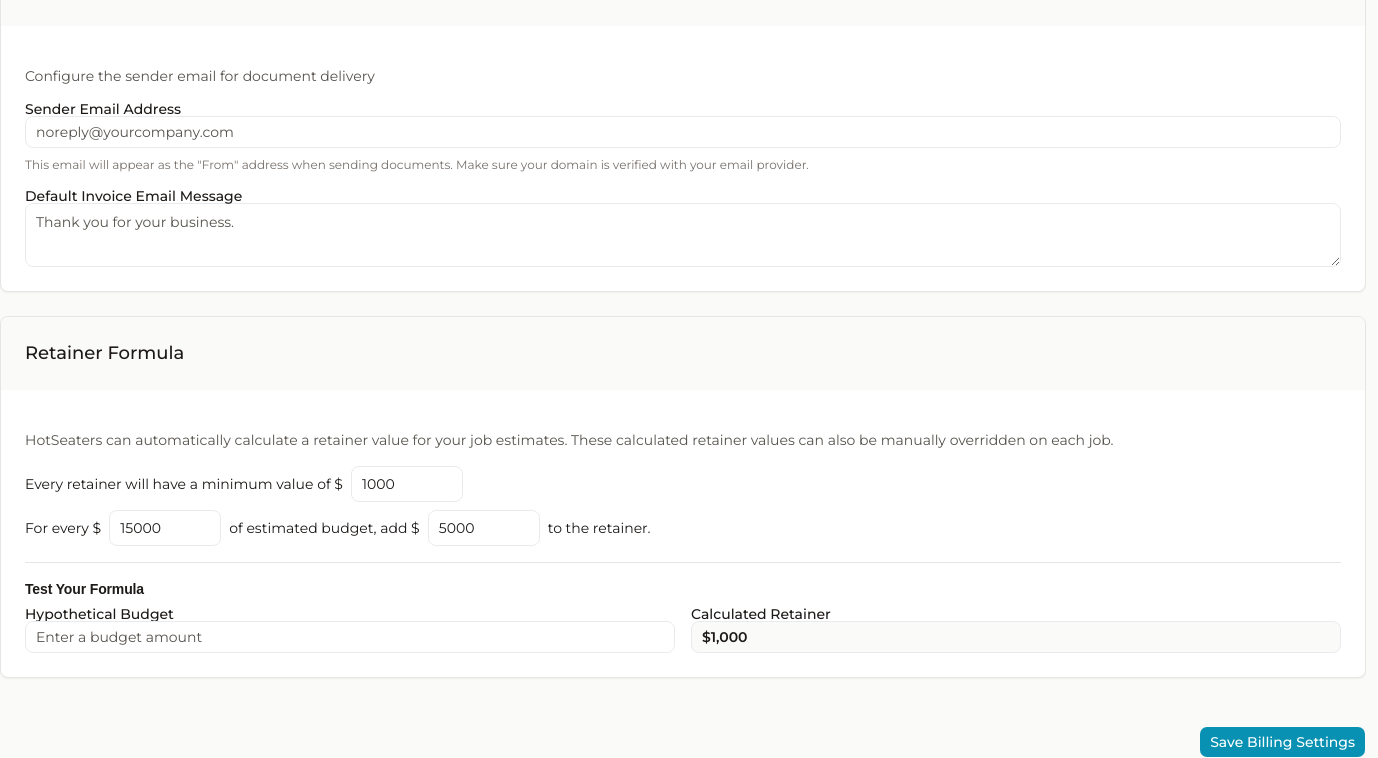
Scenario: BillingSettingsTab › retainer calculator updates live when a formula input changes
(page scrolled)
In the number field labelled "Hypothetical Budget": coordinates (350, 637) [25,621,675,653], type "30000"
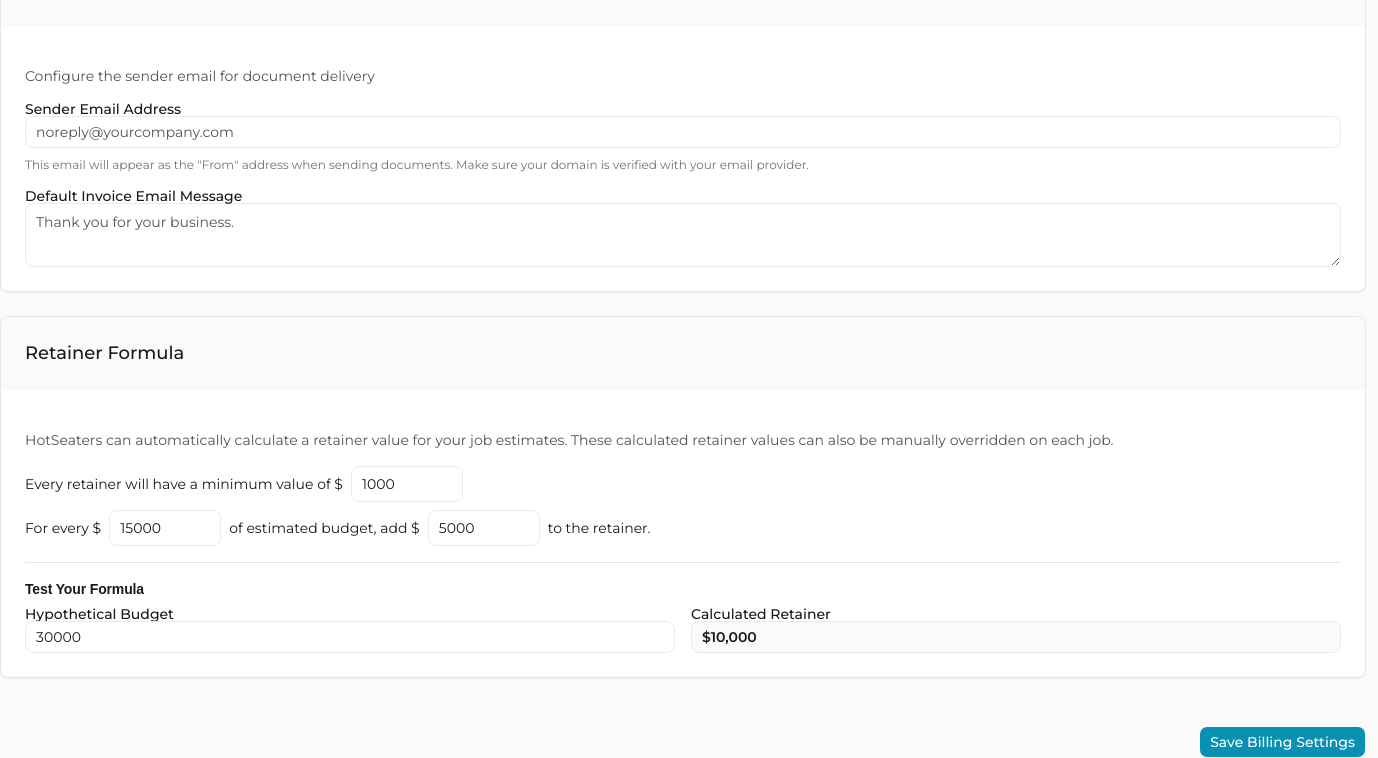
Expected: the field labelled "Calculated Retainer" holds "$10,000", [691,621,1341,653]
In the number field with id "retainer_minimum": coordinates (407, 484) [351,466,463,502], type "25000"
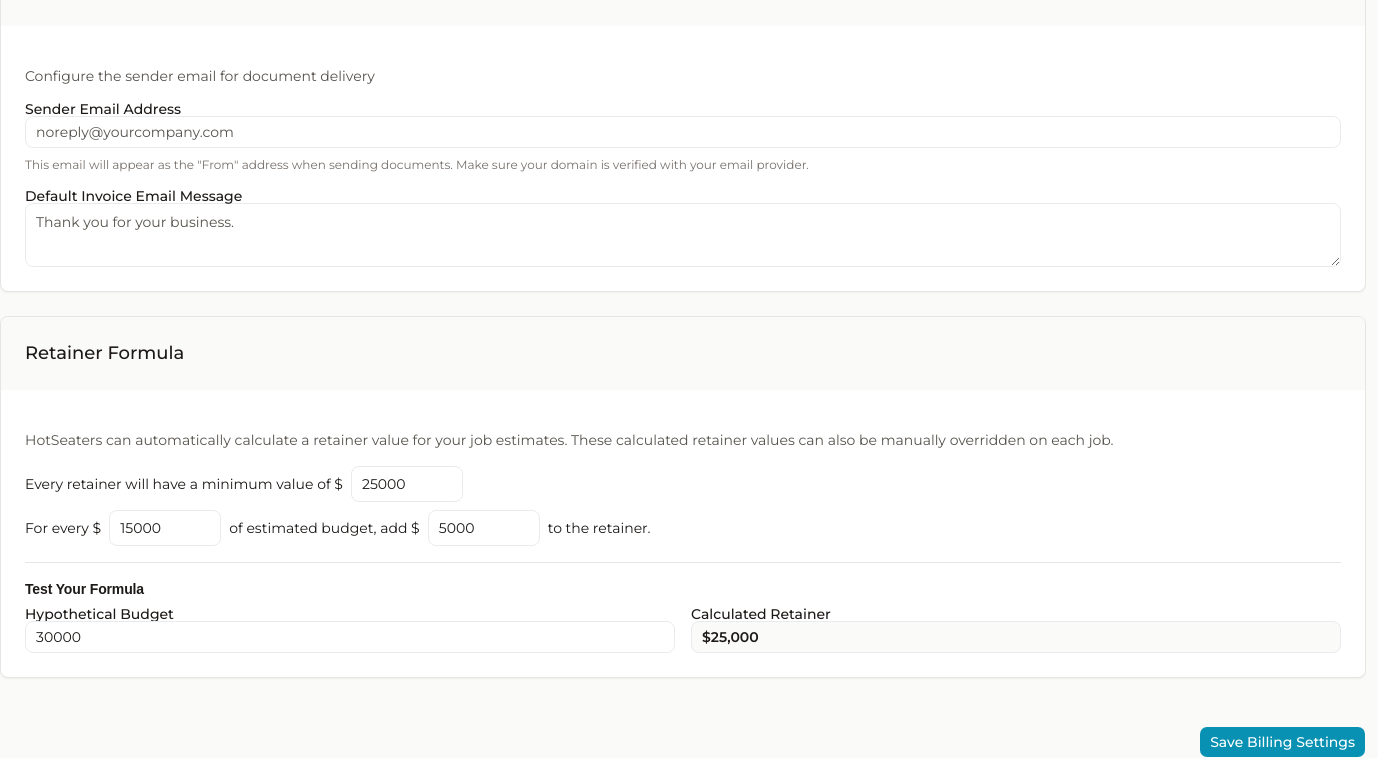
Expected: the field labelled "Calculated Retainer" holds "$25,000", [691,621,1341,653]
